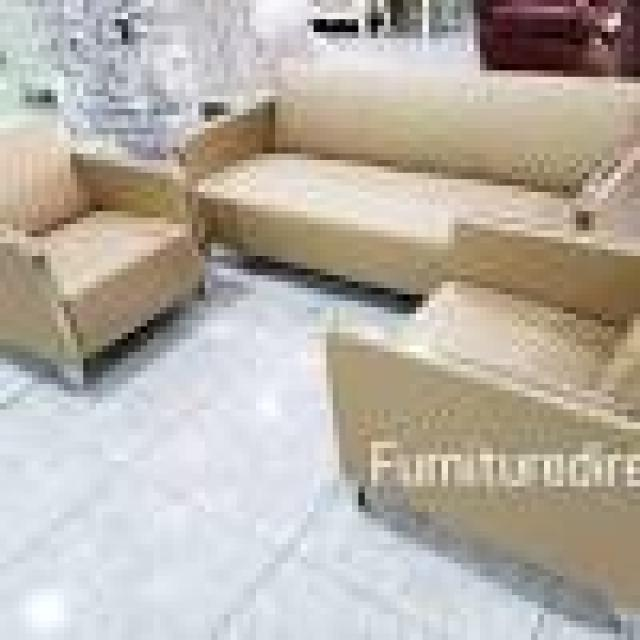chair: (295, 202, 640, 640), (0, 95, 223, 408)
